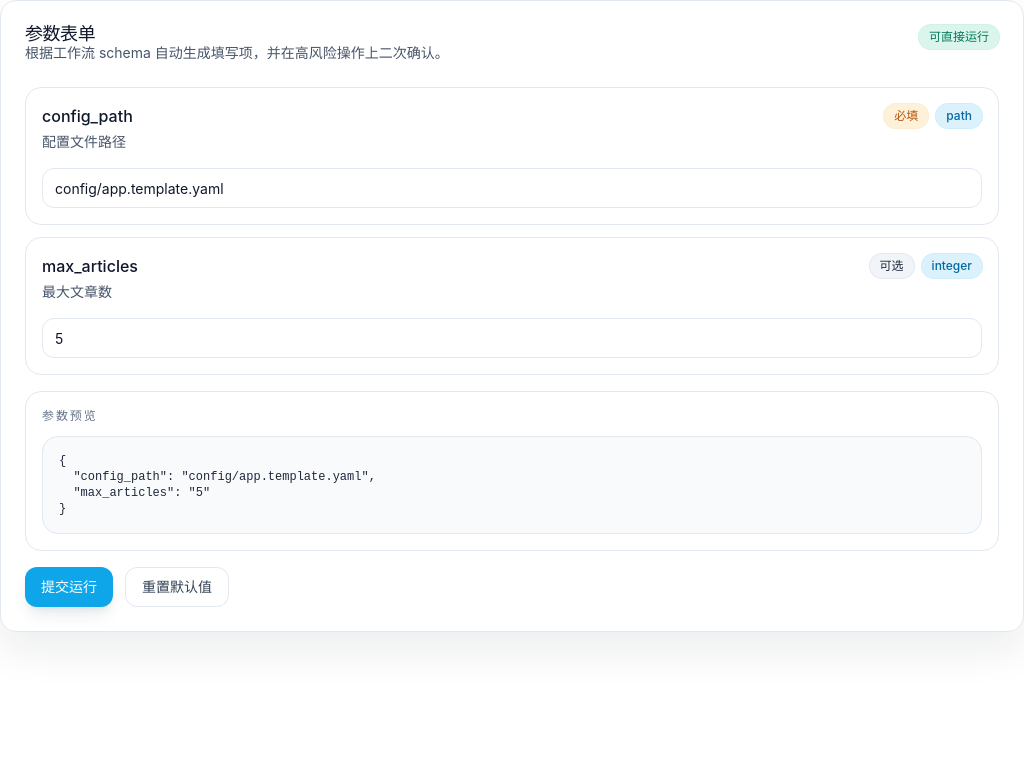
Test case: WorkflowParameterForm › maps structured backend validation errors to fields
This screenshot has width=1024, height=768.
Click the button "提交运行" at (69, 587), box left=25, top=567, right=113, bottom=607
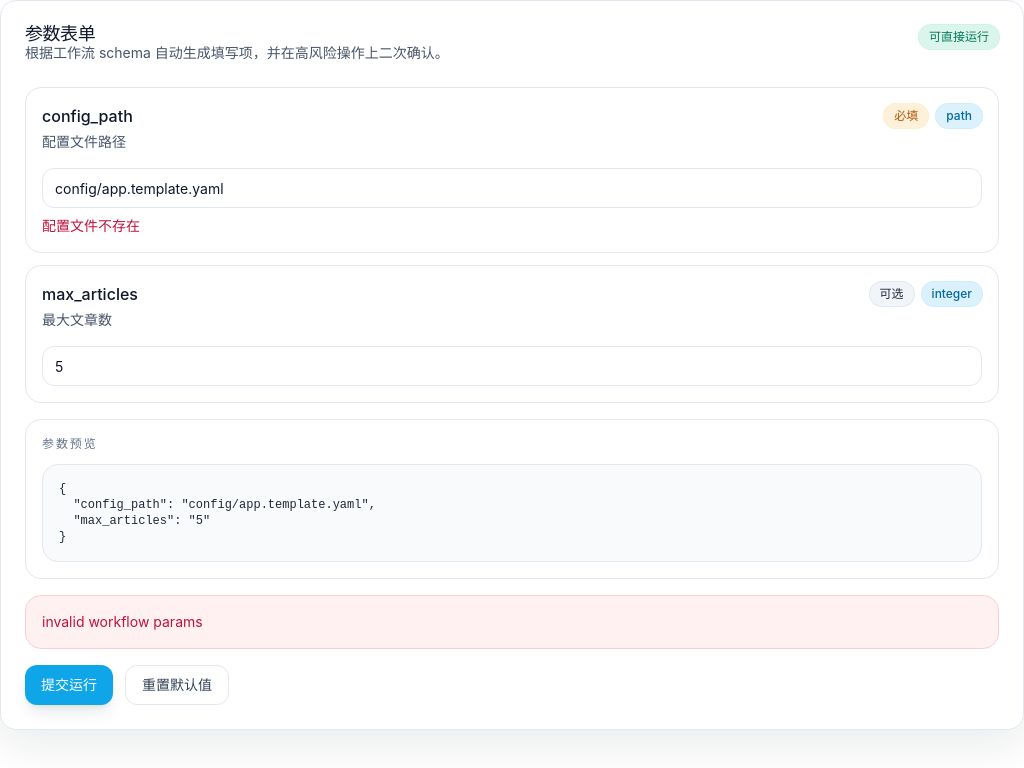
Now the text "配置文件不存在" is shown, box left=42, top=217, right=140, bottom=234
Now the text "invalid workflow params" is shown, box left=25, top=595, right=999, bottom=649
